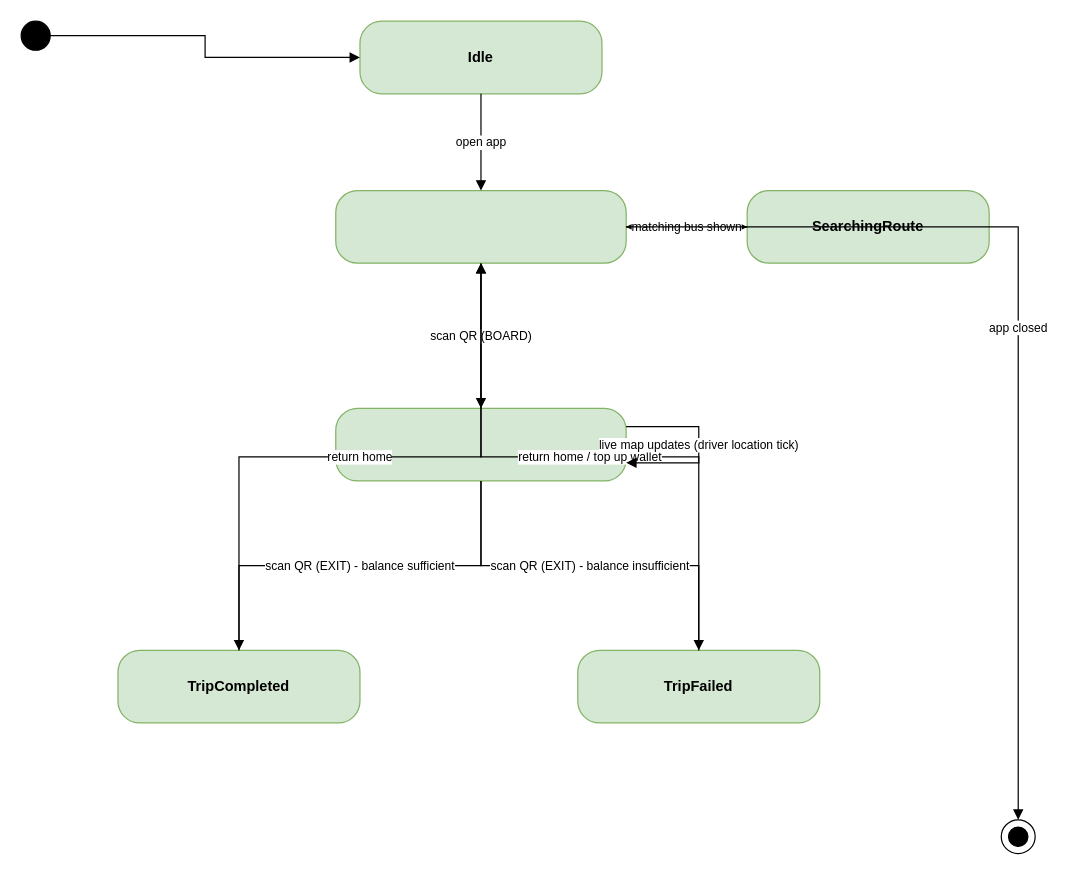
This 1068x875 diagram has some shape labels left out. Here are the shapes that lost their labels. From the top down, the centre of each, then its label:
[480,226]: ViewingLiveMap
[480,444]: TripBoarded
